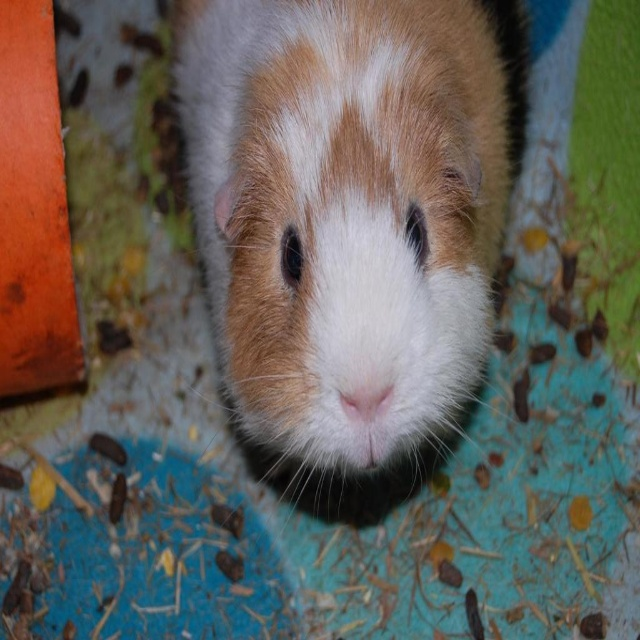Hamster: (159, 1, 538, 547)
